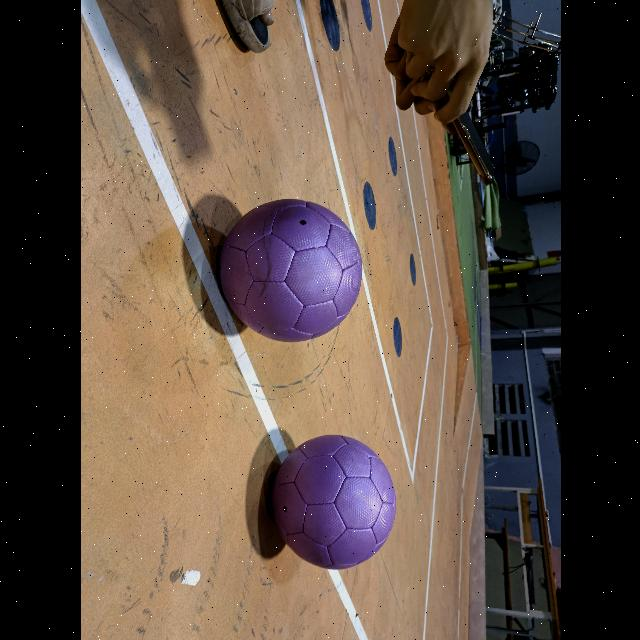P: (220, 199, 360, 341), (272, 435, 394, 569)
